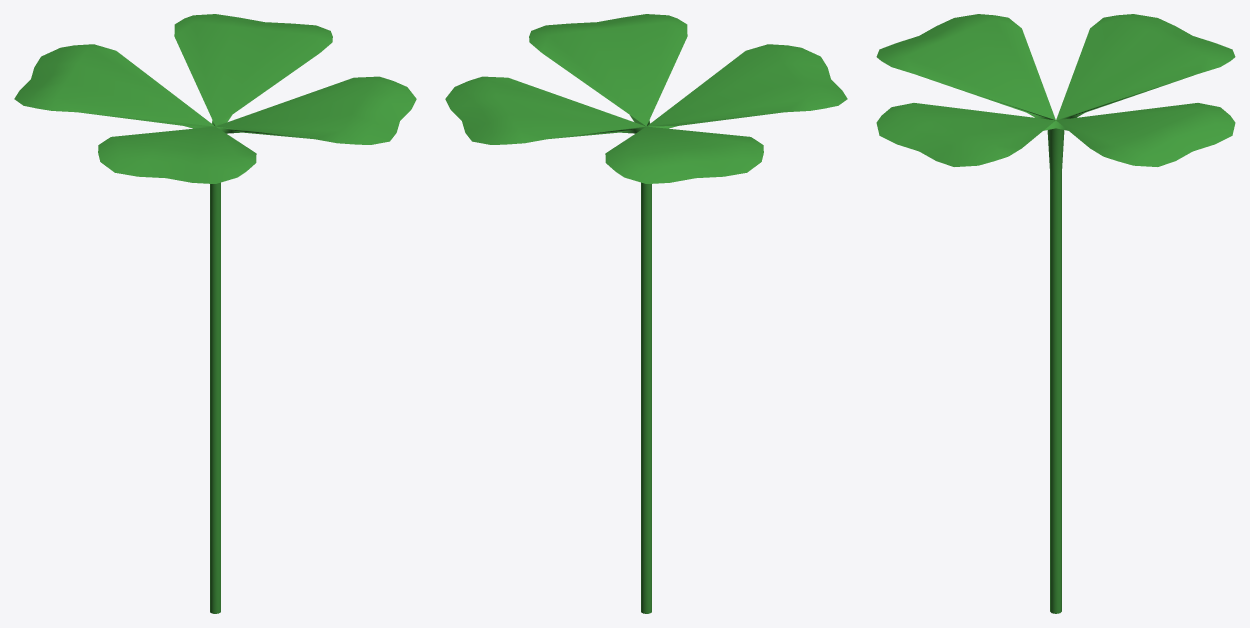
File: SM_Clover_01.fbx
3 views of the same model, side by side, from view 1: azimuth 30°, elevation 25°; view 2: azimuth 150°, elevation 25°; view 3: azimuth 270°, elevation 25° (orthographic).
Parts seen in each view (by area): view 1: Cylinder; view 2: Cylinder; view 3: Cylinder.
Part boxes in pixels (x1=…): Cylinder: x1=14, y1=14, x2=416, y2=613; Cylinder: x1=445, y1=14, x2=847, y2=613; Cylinder: x1=876, y1=14, x2=1235, y2=613.
Bounding box in the file's own units: 19.66 × 31.95 × 19.66.
